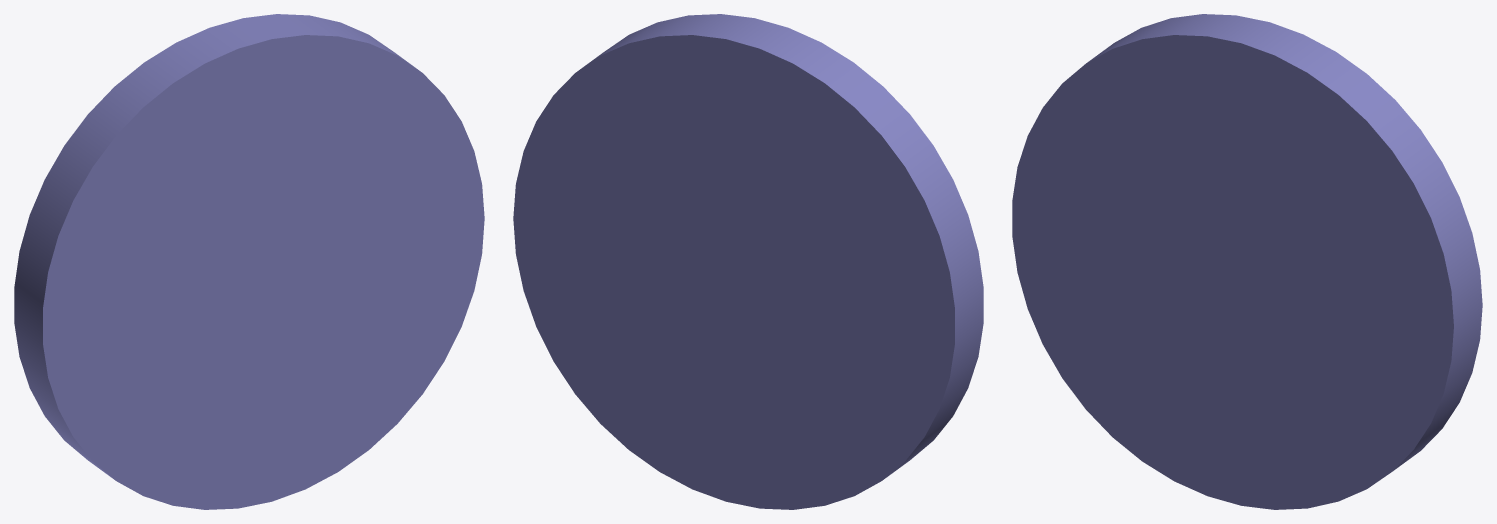
The model's file is bottom_absorber.obj.
3 renders of one model, left to right at view 1: azimuth 30°, elevation 25°; view 2: azimuth 150°, elevation 25°; view 3: azimuth 330°, elevation 25°, orthographic.
Bounding box in the file's own units: 41.69 × 41.72 × 4.68.
